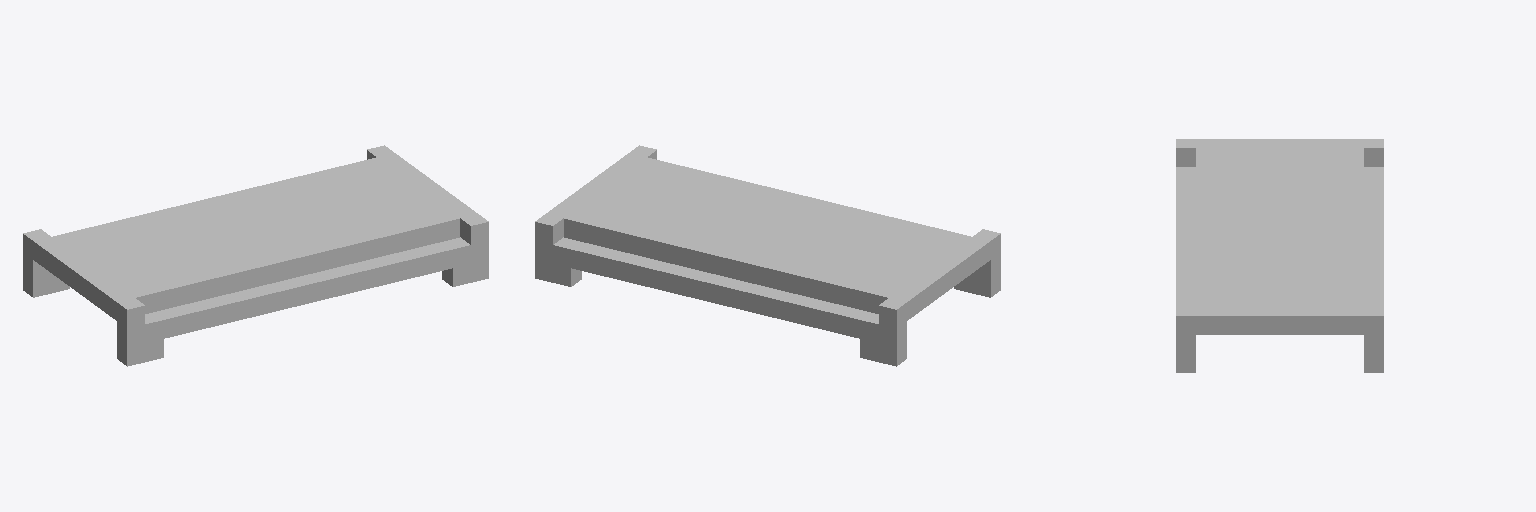
The model's file is bed.obj.
3 views of the same model, side by side, from view 1: azimuth 30°, elevation 25°; view 2: azimuth 150°, elevation 25°; view 3: azimuth 270°, elevation 25° (orthographic).
Parts seen in each view (by area): view 1: object 1; view 2: object 1; view 3: object 1.
Boxes of the visible parts, x1=… form: object 1: x1=23, y1=145, x2=488, y2=366; object 1: x1=535, y1=145, x2=1000, y2=366; object 1: x1=1176, y1=139, x2=1383, y2=372.
Bounding box in the file's own units: 2 × 0.3 × 1.